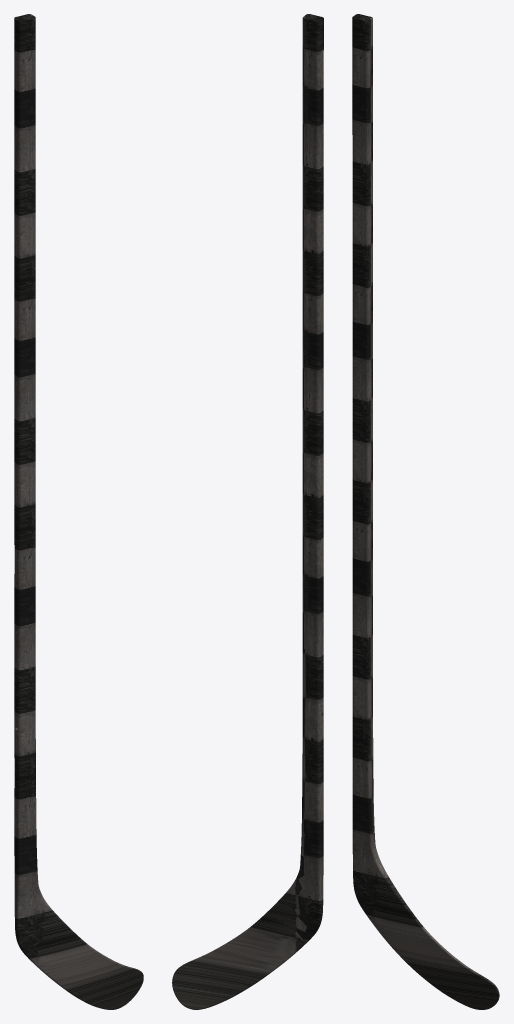
3 renders of one model, left to right at view 1: azimuth 30°, elevation 25°; view 2: azimuth 150°, elevation 25°; view 3: azimuth 330°, elevation 25°, orthographic. The views are drawn at different scales.
Visible parts, largest first — view 1: geometry_0; view 2: geometry_0; view 3: geometry_0.
Boxes of the visible parts, x1,y1,x2,y2 form: geometry_0: (14,14,143,1009); geometry_0: (172,14,323,1009); geometry_0: (352,14,499,1009).
Bounding box in the file's own units: 235 × 1650 × 55.19.
1 material, 1 textured.
